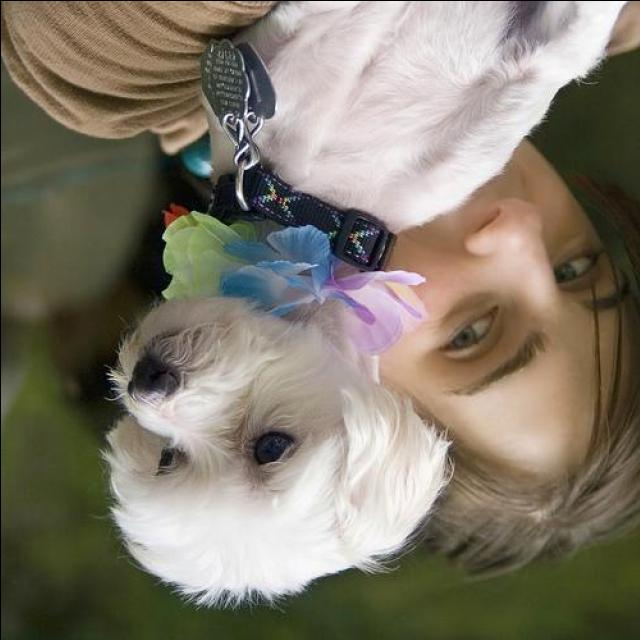maltese_dog: (98, 2, 632, 600)
